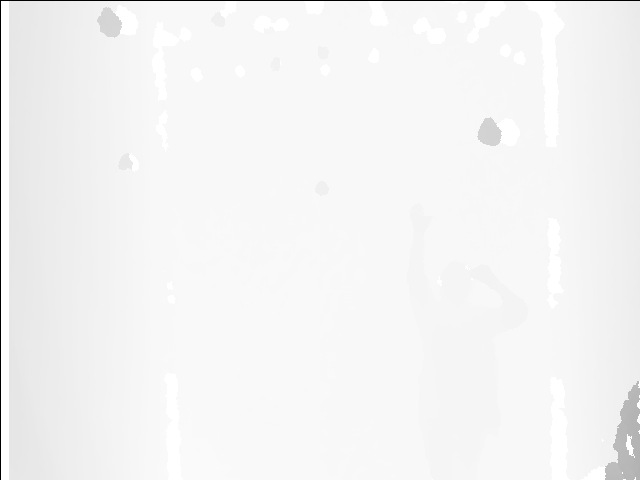hand: (408, 198, 434, 240)
